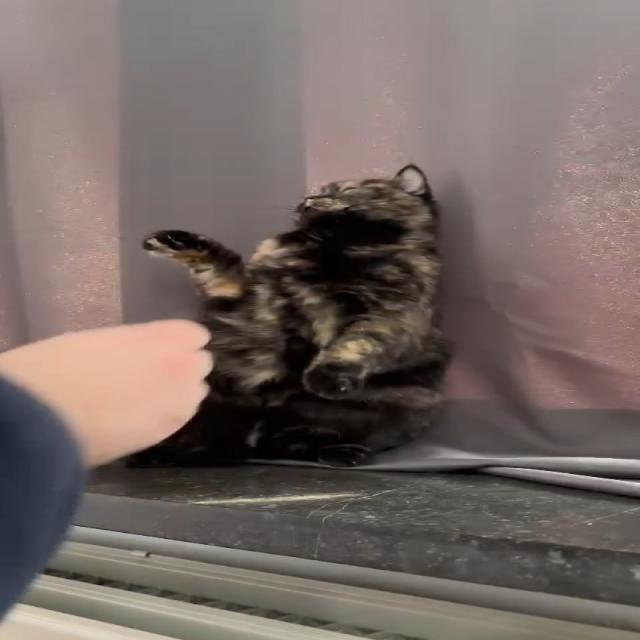authorized: (121, 162, 454, 469)
